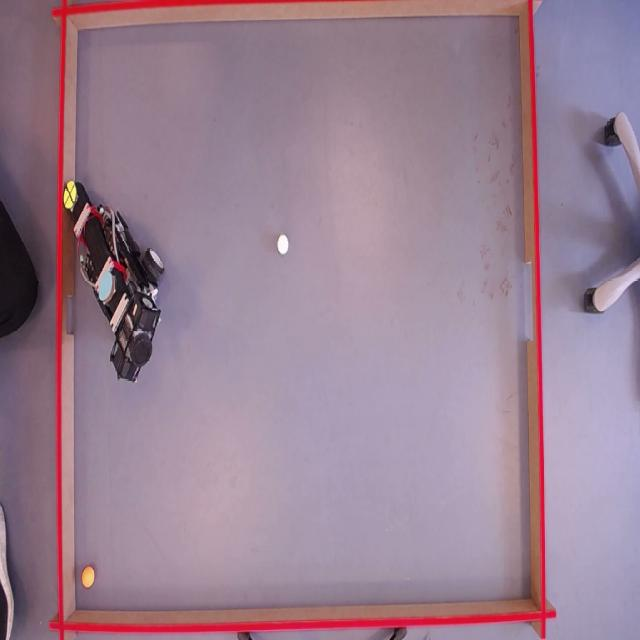orange: (82, 566, 96, 588)
robot: (61, 178, 168, 380)
robot-front: (63, 180, 77, 210)
robot-rear: (98, 272, 112, 300)
white: (276, 234, 288, 255)
